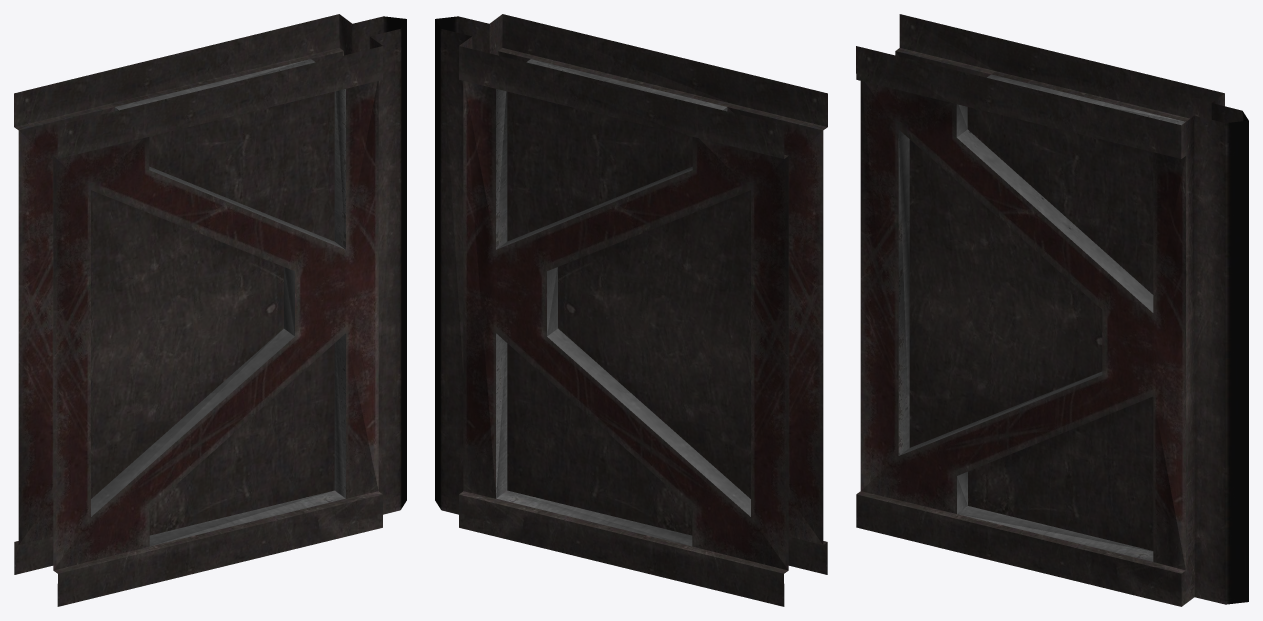
The model's file is Door_ContRight.fbx.
3 renders of one model, left to right at view 1: azimuth 30°, elevation 25°; view 2: azimuth 150°, elevation 25°; view 3: azimuth 330°, elevation 25°, orthographic.
Visible parts, largest first — view 1: Door_ContRight; view 2: Door_ContRight; view 3: Door_ContRight.
Boxes of the visible parts, <box> form: Door_ContRight: <box>14,14,406,606</box>; Door_ContRight: <box>435,14,827,606</box>; Door_ContRight: <box>856,14,1248,606</box>.
Size of the model in its own units: 2.54 by 3.16 by 0.5185.
